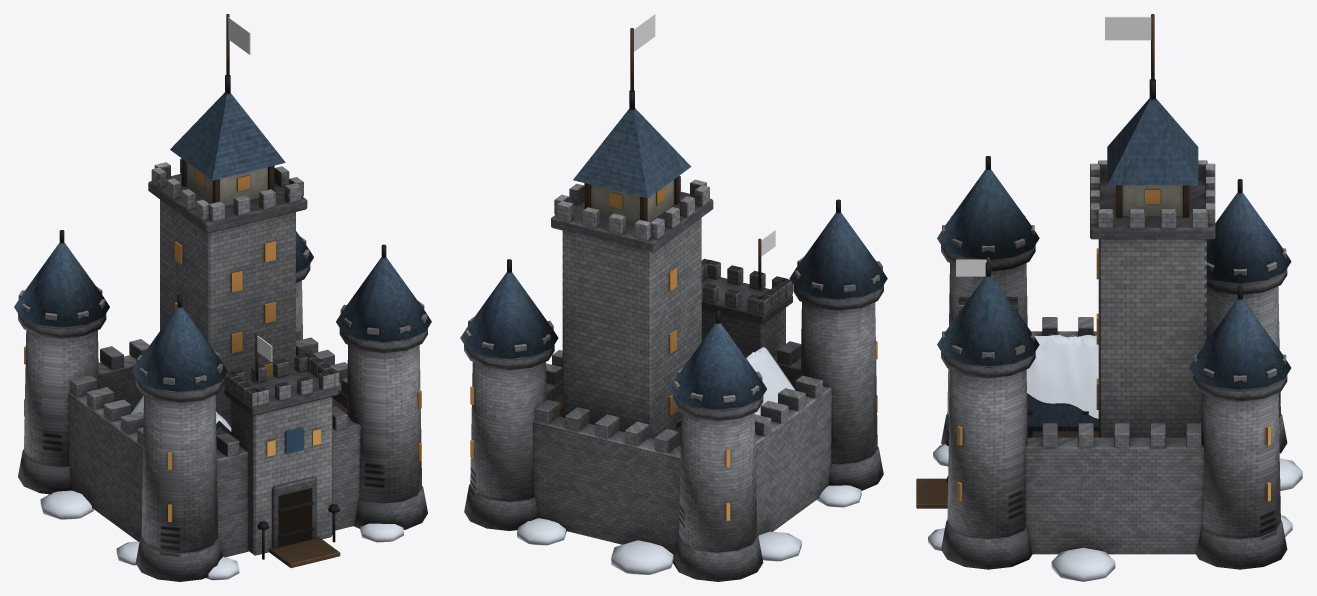
The model's file is wacht_hq.glb.
3 views of the same model, side by side, from view 1: azimuth 30°, elevation 25°; view 2: azimuth 150°, elevation 25°; view 3: azimuth 270°, elevation 25° (orthographic). The views are drawn at different scales.
Visible parts, largest first — view 1: wacht_hq, Schnee, Fahne1; view 2: wacht_hq, Schnee; view 3: wacht_hq, Schnee, Fahne1, Fahne2.
Boxes of the visible parts, <box> form: wacht_hq: <box>14,14,431,581</box>; Schnee: <box>40,395,403,580</box>; Fahne1: <box>228,17,250,54</box>; wacht_hq: <box>460,28,887,581</box>; Schnee: <box>517,347,861,574</box>; wacht_hq: <box>916,14,1291,569</box>; Schnee: <box>928,334,1302,581</box>; Fahne1: <box>1105,16,1151,40</box>; Fahne2: <box>956,259,986,276</box>.
Size of the model in its own units: 7.39 by 10.85 by 7.52.
3 materials, 1 textured.
